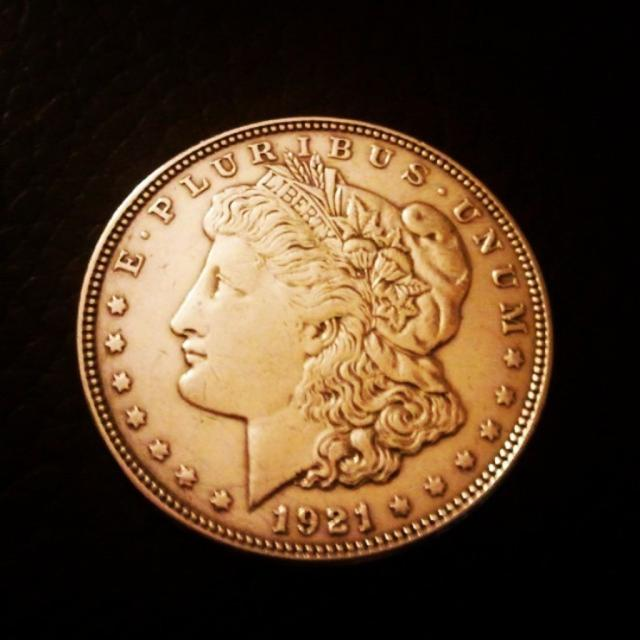Coin: (69, 113, 554, 562)
